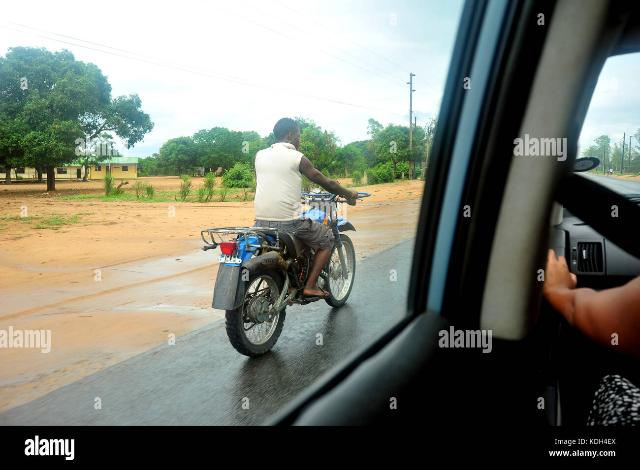motor: (204, 191, 372, 364)
non-helm: (274, 117, 302, 149)
